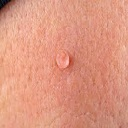Wart: (52, 48, 77, 74)
